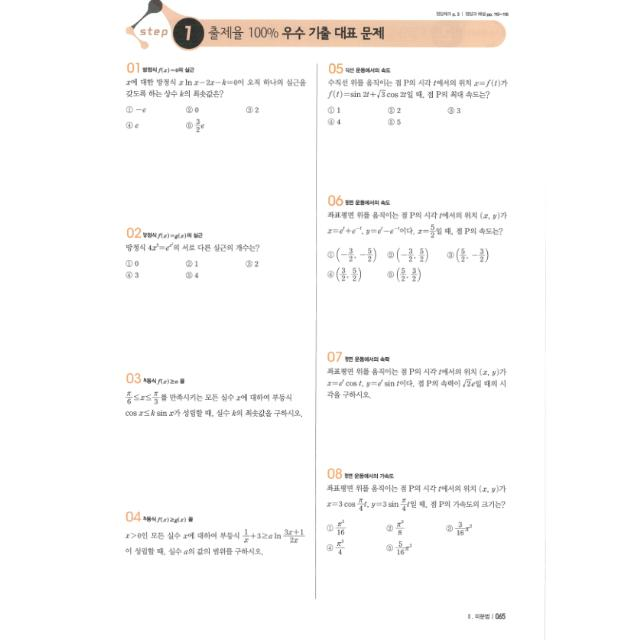multiple: (321, 458, 517, 564), (322, 189, 518, 291), (120, 56, 308, 140), (117, 218, 311, 296), (321, 56, 515, 130)
short: (320, 342, 516, 410), (119, 502, 308, 570), (118, 362, 310, 426)
